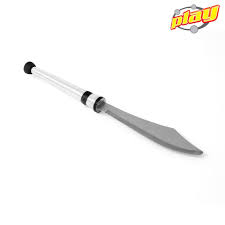knife: (20, 55, 208, 164)
